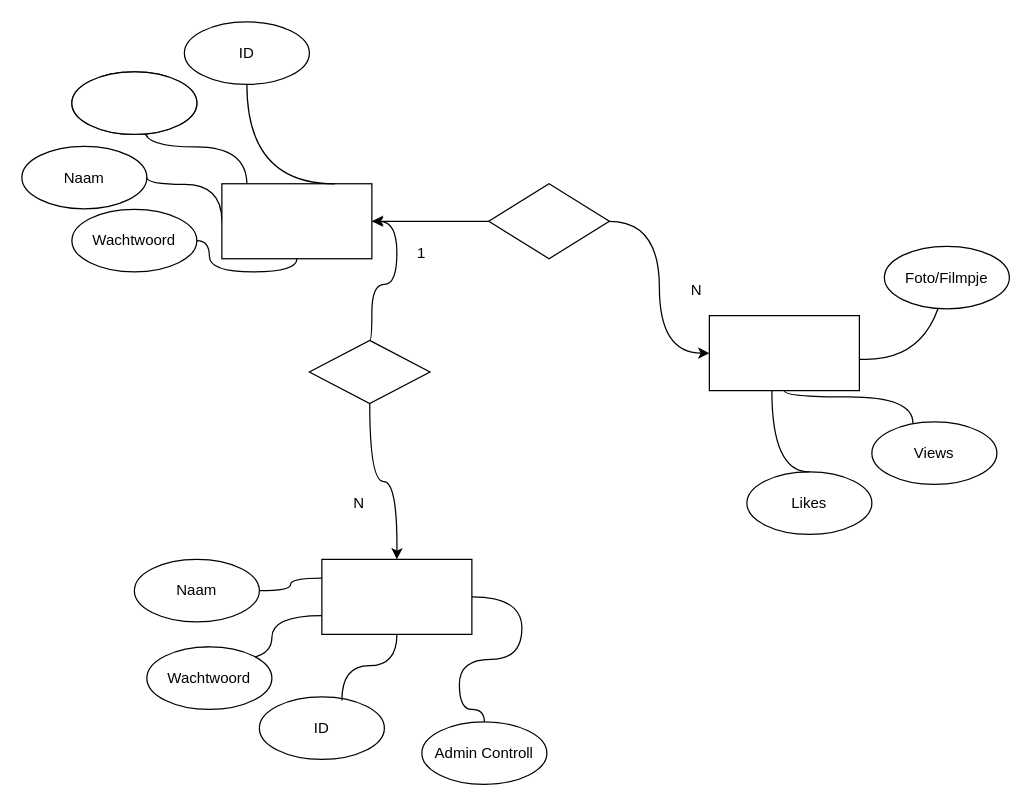
The diagram is 1031 pixels wide and 806 high, and some of its shapes have lost their labels. Here are the shapes that lost their labels. From the top down, the box of each, then its label:
(71, 71, 197, 134): Intresse
(221, 182, 372, 259): Account
(708, 314, 859, 391): Post
(321, 558, 472, 634): Werknemer
